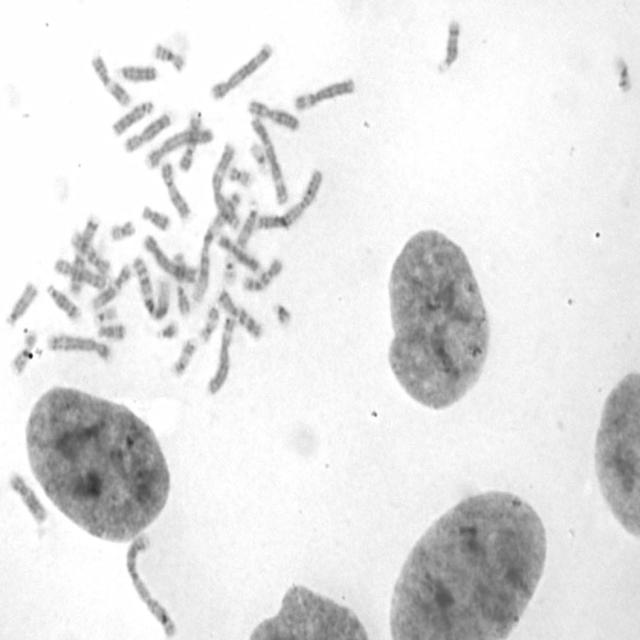A1: (189, 188, 242, 304), (131, 253, 172, 321)
A2: (122, 531, 180, 638), (253, 165, 324, 232)
A3: (247, 110, 290, 206), (210, 138, 241, 231)
B4: (142, 123, 214, 170), (141, 230, 198, 286)
B5: (207, 38, 275, 102), (44, 330, 114, 363)
C10: (68, 226, 112, 276), (240, 255, 283, 292)
C11: (88, 51, 132, 107), (171, 247, 191, 317)
C12: (6, 468, 49, 525), (88, 260, 133, 312)
C6: (204, 312, 238, 396), (291, 73, 356, 112)
C7: (66, 208, 101, 297), (214, 286, 264, 342)
C8: (120, 108, 173, 154), (50, 254, 111, 290)
C9: (158, 157, 192, 221), (175, 111, 202, 172)
D13: (109, 98, 155, 137), (116, 61, 159, 84)
D14: (433, 15, 462, 76), (44, 280, 82, 322)
D15: (2, 277, 39, 328), (233, 196, 260, 250)
E16: (8, 328, 38, 378), (150, 38, 188, 74)
E17: (170, 334, 197, 379), (197, 302, 220, 345)
E18: (140, 202, 172, 232), (95, 321, 127, 341)
F19: (611, 52, 633, 94), (247, 137, 270, 177)
F20: (106, 216, 136, 243), (226, 162, 253, 189)
G21: (270, 300, 294, 328), (154, 318, 180, 342)
G22: (92, 302, 119, 325), (220, 252, 238, 286)
X: (213, 232, 266, 274), (245, 96, 299, 133)
